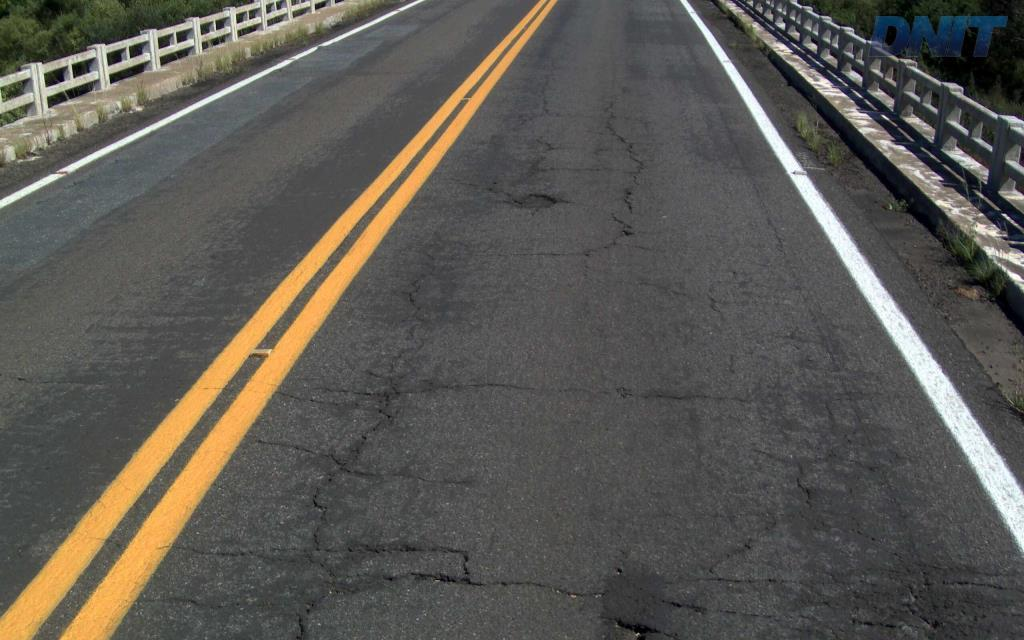crack: (410, 546, 485, 586), (351, 376, 412, 425), (321, 434, 381, 477), (608, 617, 661, 639), (346, 540, 424, 554)
